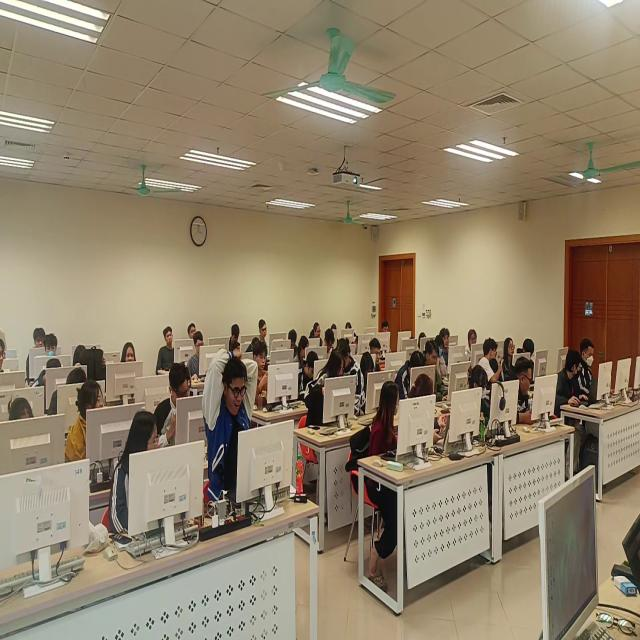using_computer: (381, 319, 395, 358)
